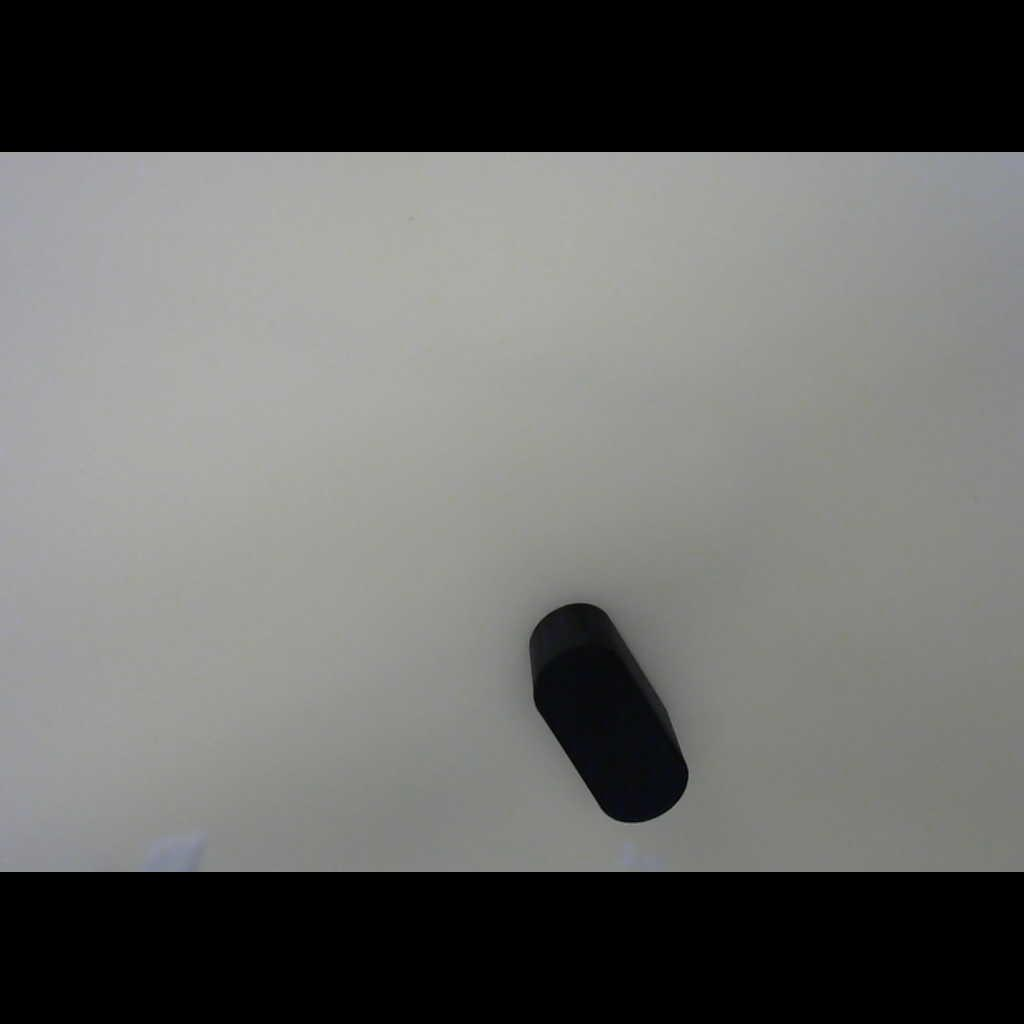oval: (482, 576, 718, 858)
